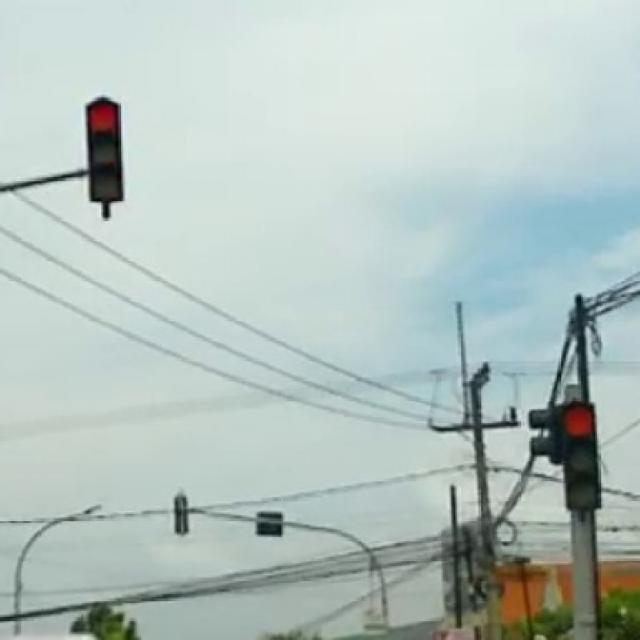red light: (558, 403, 602, 514), (86, 96, 122, 202)
